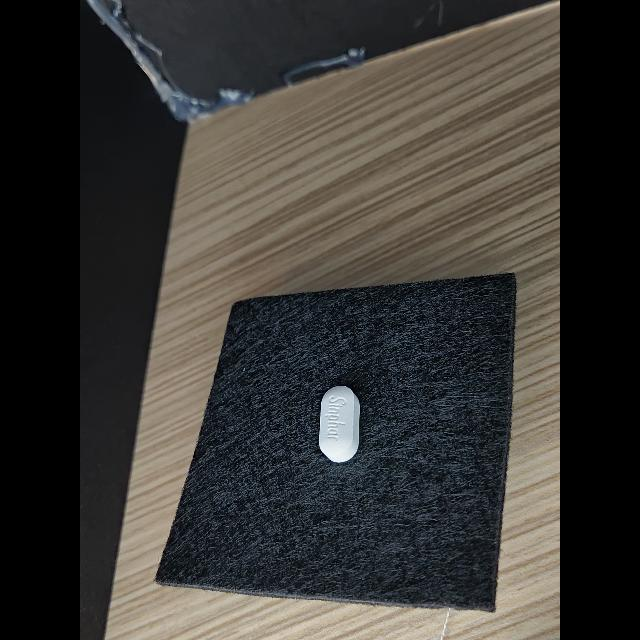Intact Pill: (319, 386, 360, 462)
